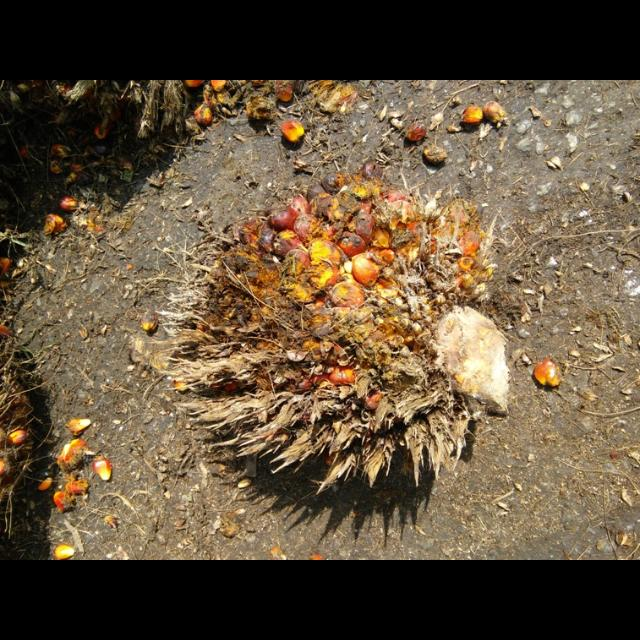Overripe: (166, 185, 490, 482)
